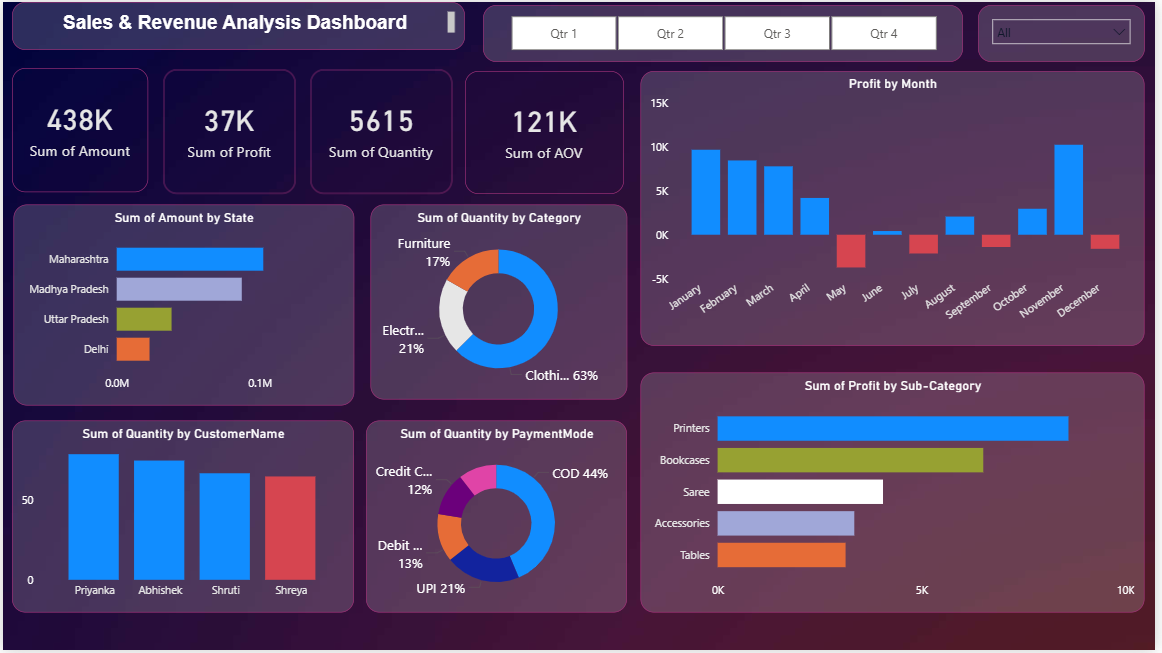

This screenshot's page, from the dashboard's own definition file:
{"tool":"powerbi","page":{"name":"Page 1","canvas":[1280,720],"ordinal":0},"visuals":[{"type":"textbox","box":[10,0,503.3,53.3],"z":0},{"type":"columnChart","title":"Profit by Month","fields":{"Category":["Orders.Order Date.Variation.Date Hierarchy.Month"],"Y":["Sum(Details.Profit)"]},"box":[708.3,76.7,560,305],"z":1000},{"type":"barChart","fields":{"Category":["Details.Sub-Category"],"Y":["Sum(Details.Profit)"]},"box":[708.3,411.7,560,266.7],"z":2000},{"type":"donutChart","fields":{"Category":["Details.Category"],"Y":["Sum(Details.Quantity)"]},"box":[408.3,225,285,216.7],"z":3000},{"type":"donutChart","fields":{"Y":["Sum(Details.Quantity)"],"Category":["Details.PaymentMode"]},"box":[403.3,465,290,213.3],"z":4000},{"type":"advanceCardE03760C5AB684758B56AA29F9E6C257B","fields":{"mainMeasure":["Sum(Details.Amount)"]},"box":[10.6,72.7,151.4,137.8],"z":5000},{"type":"advanceCardE03760C5AB684758B56AA29F9E6C257B","fields":{"mainMeasure":["Sum(Details.Quantity)"]},"box":[342.2,74.2,157.5,137.8],"z":6000},{"type":"advanceCardE03760C5AB684758B56AA29F9E6C257B","fields":{"mainMeasure":["Sum(Details.Profit)"]},"box":[178.7,74.2,146.9,137.8],"z":7000},{"type":"advanceCardE03760C5AB684758B56AA29F9E6C257B","fields":{"mainMeasure":["Sum(Details.AOV)"]},"box":[513.3,76.7,176.7,136.7],"z":8000},{"type":"barChart","fields":{"Category":["Orders.State"],"Y":["Sum(Details.Amount)"]},"box":[11.7,225,378.3,223.3],"z":9000},{"type":"columnChart","fields":{"Category":["Orders.CustomerName"],"Y":["Sum(Details.Quantity)"]},"box":[10,465,380,213.3],"z":10000},{"type":"slicer","fields":{"Values":["Orders.Order Date.Variation.Date Hierarchy.Quarter"]},"box":[533.3,3.3,533.3,63.3],"z":11000},{"type":"slicer","fields":{"Values":["Orders.State"]},"box":[1083.3,3.3,185,63.3],"z":12000}]}

Visuals, with their boxes in screenshot pixels (x1, y1, x2, y2), scaled from the page's 1280x720 canvas onto the 1162x653 screenshot:
textbox: 9, 0, 466, 48
"Profit by Month" columnChart: 643, 70, 1151, 346
barChart - Details.Sub-Category x Sum(Details.Profit): 643, 373, 1151, 615
donutChart - Details.Category x Sum(Details.Quantity): 371, 204, 629, 401
donutChart - Sum(Details.Quantity) x Details.PaymentMode: 366, 422, 629, 615
advanceCardE03760C5AB684758B56AA29F9E6C257B - Sum(Details.Amount): 10, 66, 147, 191
advanceCardE03760C5AB684758B56AA29F9E6C257B - Sum(Details.Quantity): 311, 67, 454, 192
advanceCardE03760C5AB684758B56AA29F9E6C257B - Sum(Details.Profit): 162, 67, 296, 192
advanceCardE03760C5AB684758B56AA29F9E6C257B - Sum(Details.AOV): 466, 70, 626, 194
barChart - Orders.State x Sum(Details.Amount): 11, 204, 354, 407
columnChart - Orders.CustomerName x Sum(Details.Quantity): 9, 422, 354, 615
slicer - Orders.Order Date.Variation.Date Hierarchy.Quarter: 484, 3, 968, 60
slicer - Orders.State: 983, 3, 1151, 60
